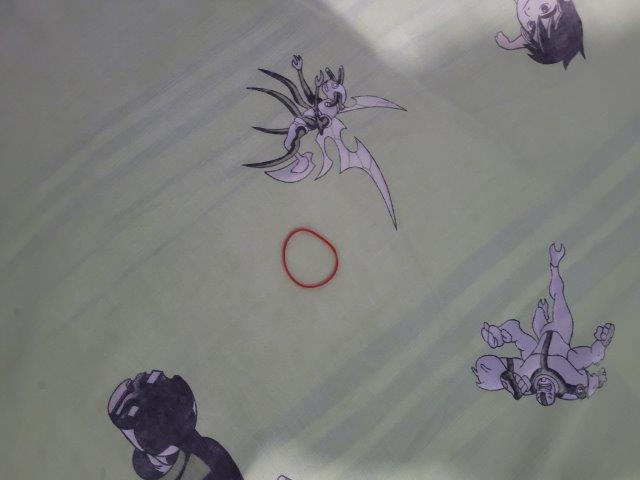karet: (281, 228, 338, 289)
